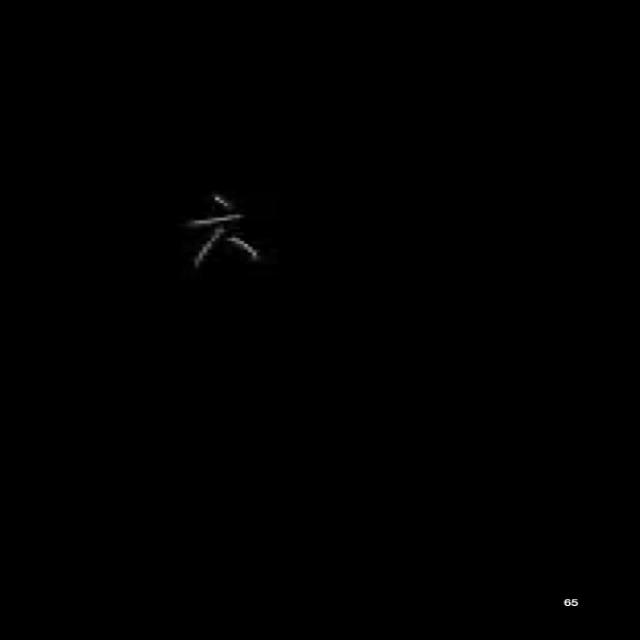6 -six-: (156, 181, 290, 278)
